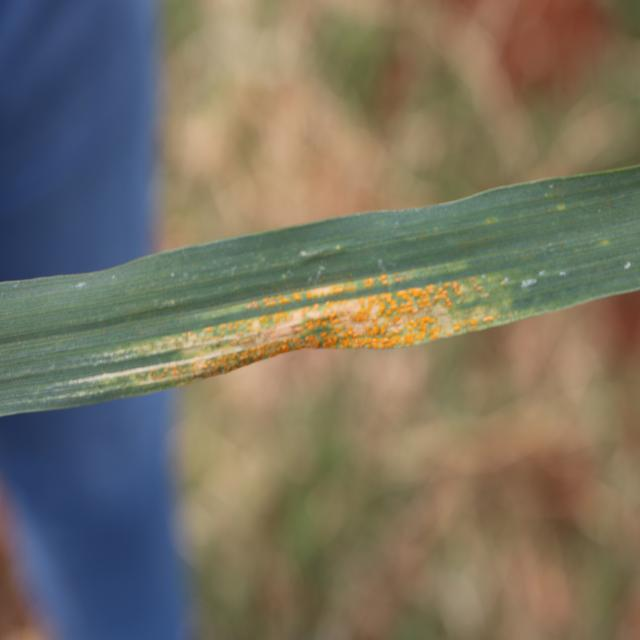Stripe Rust: (397, 272, 490, 338), (324, 269, 391, 342), (253, 280, 319, 346), (105, 343, 214, 374), (216, 315, 253, 364)
